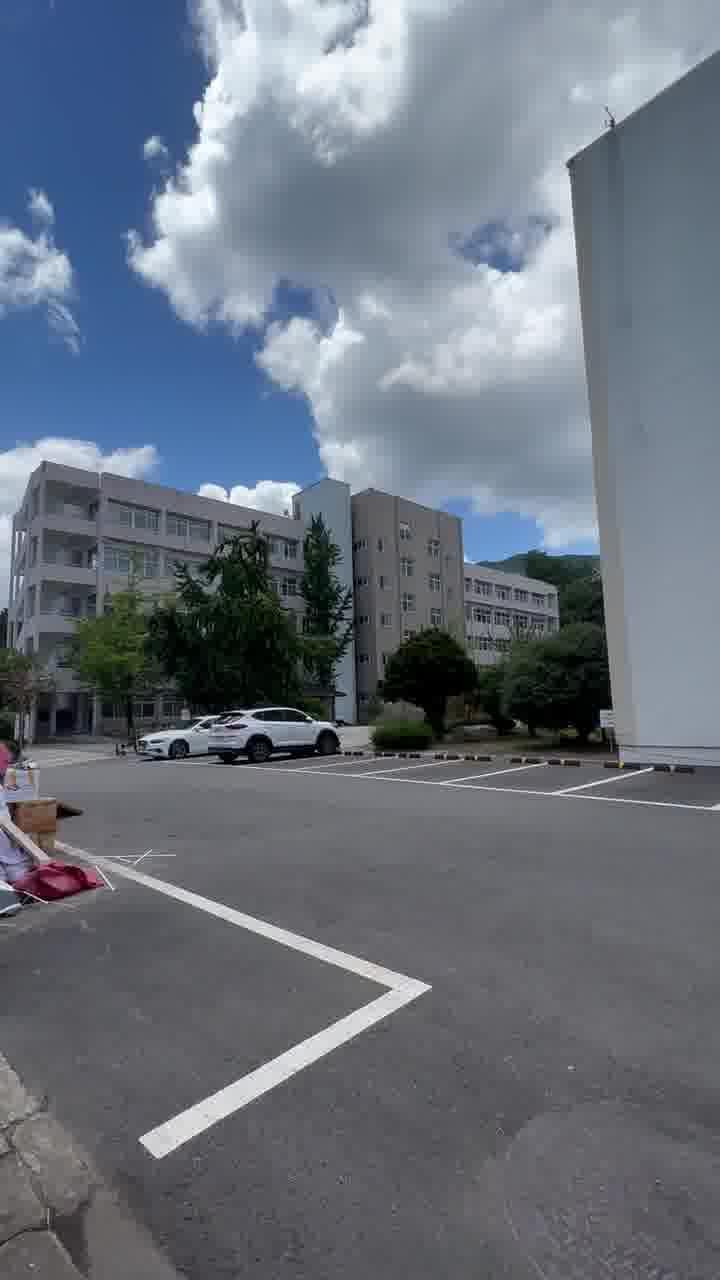building: (6, 448, 558, 614)
